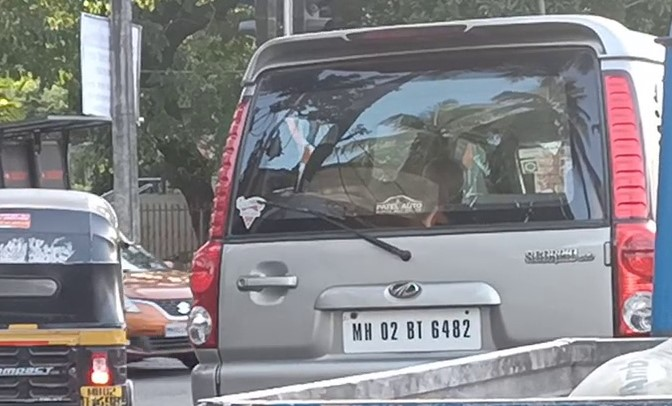MH02BT6482: (341, 307, 483, 352)
